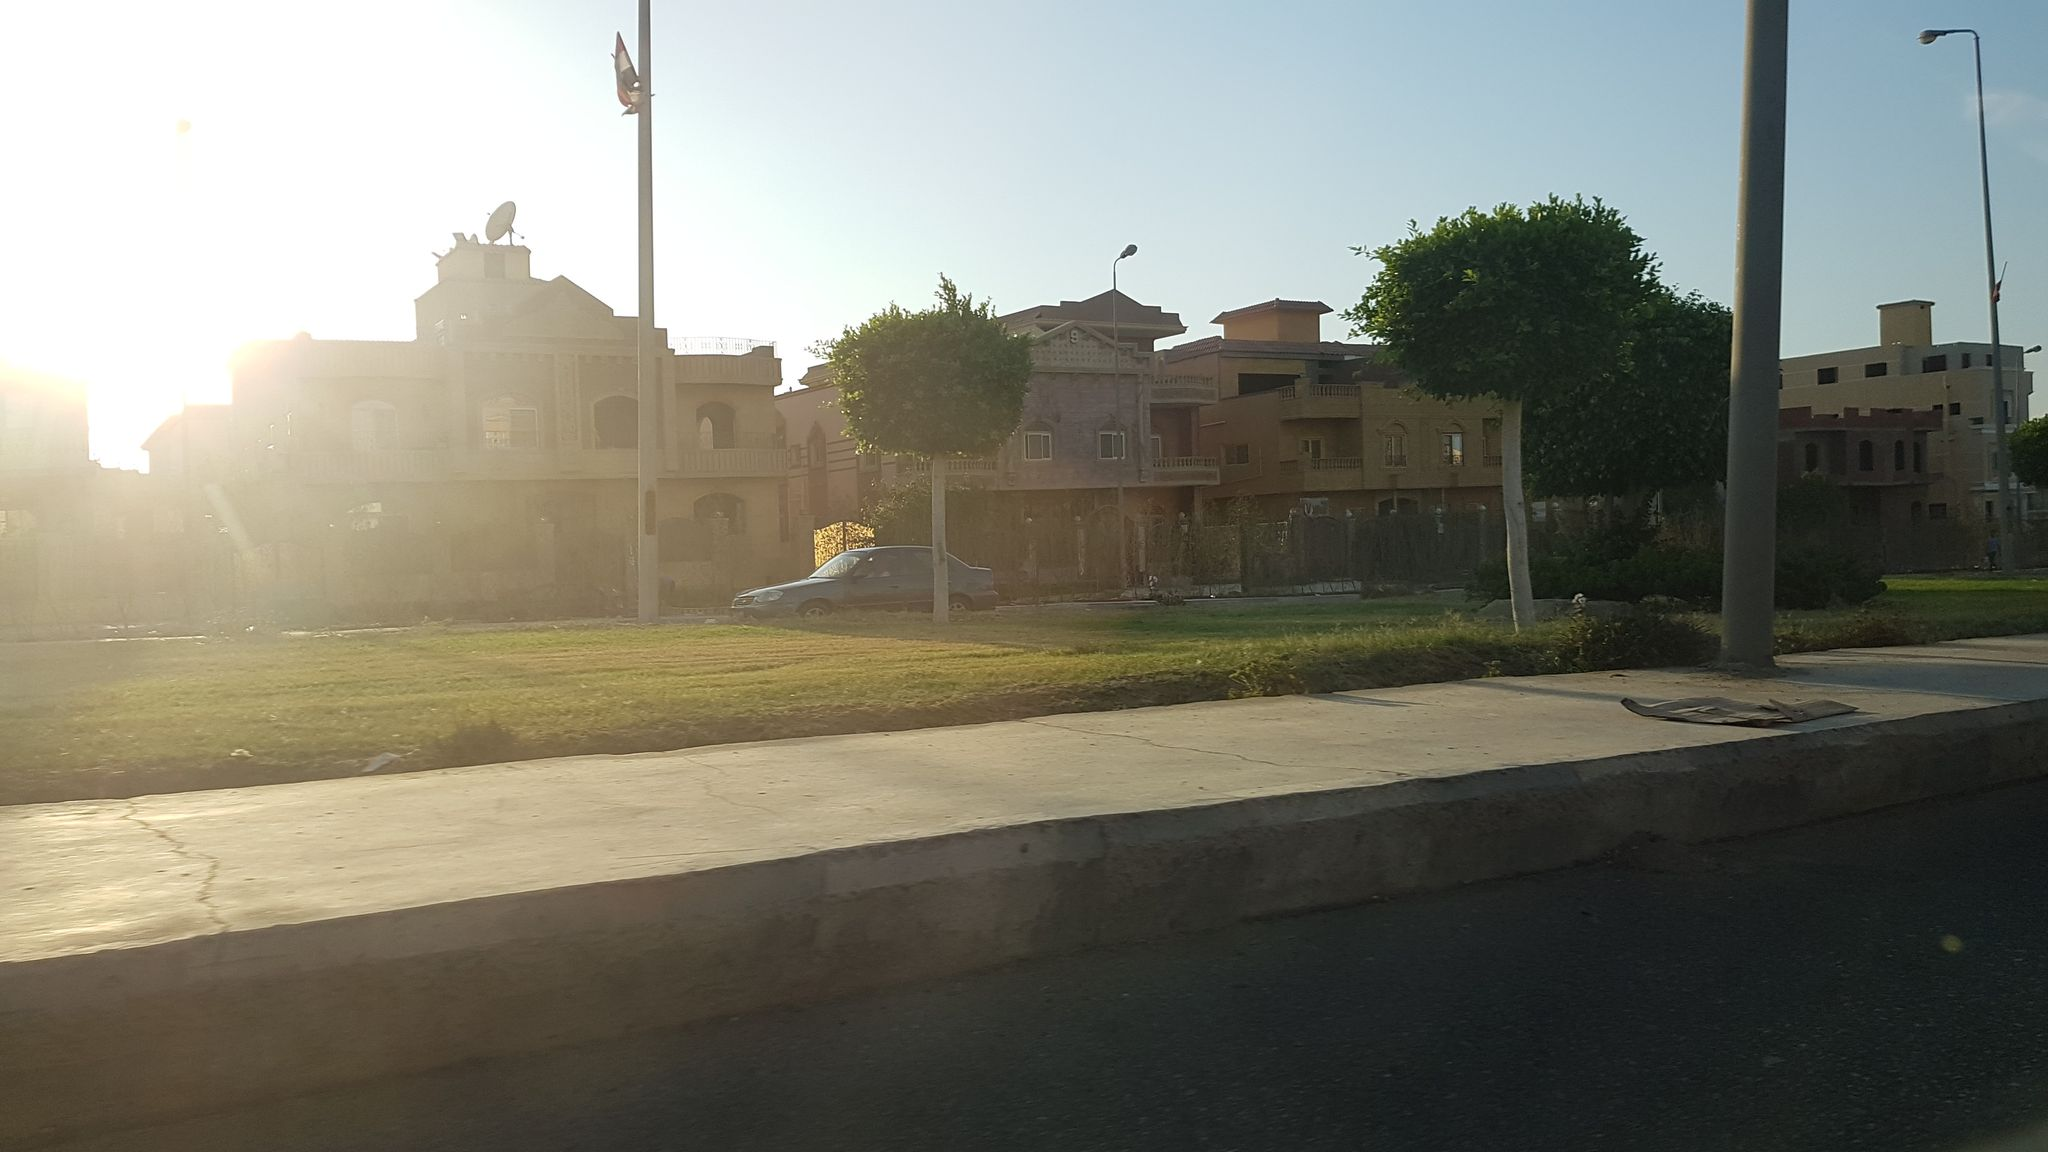car: (724, 542, 999, 615)
